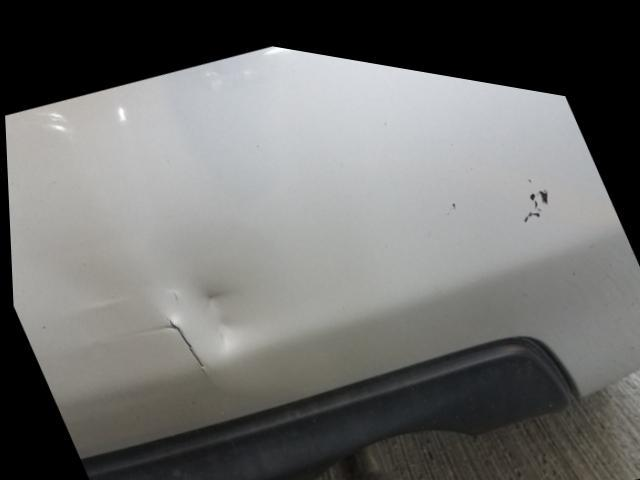crack: (140, 310, 205, 369)
dent: (177, 266, 252, 352)
scratch: (517, 169, 548, 206)
